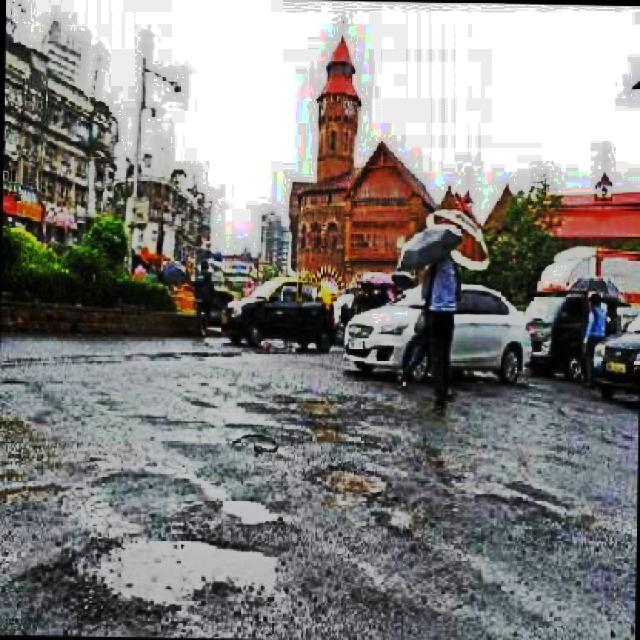pothole: (57, 526, 283, 628), (312, 455, 420, 537), (216, 491, 282, 532), (306, 417, 359, 448)
